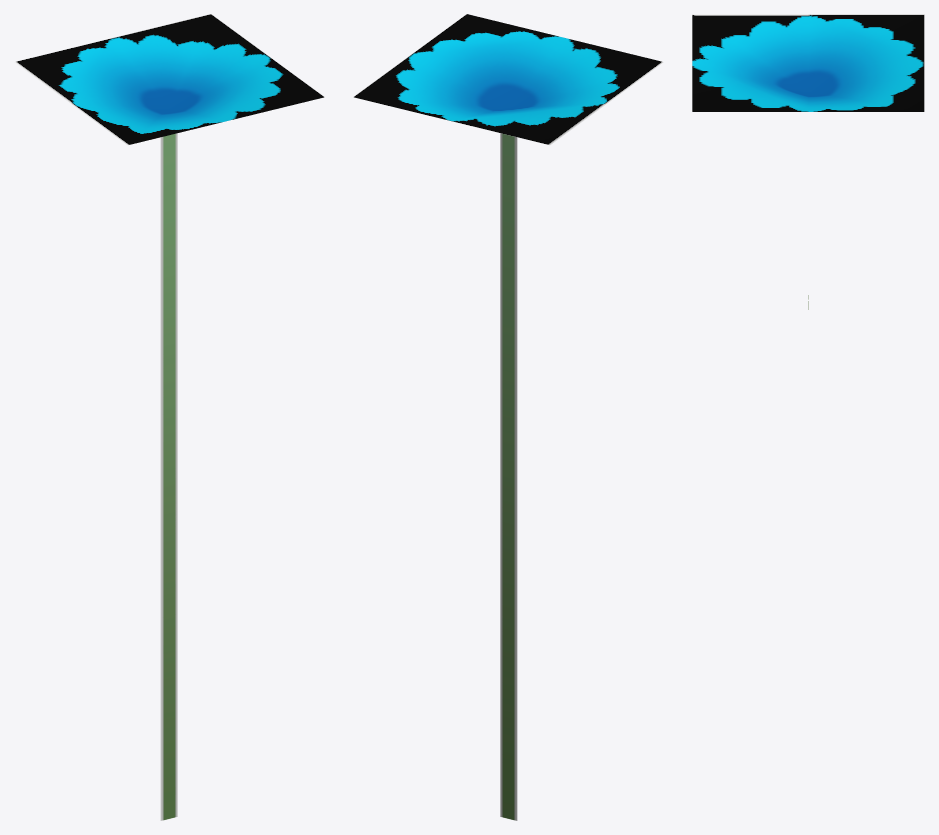
File: Flower_03.glb
3 renders of one model, left to right at view 1: azimuth 30°, elevation 25°; view 2: azimuth 150°, elevation 25°; view 3: azimuth 270°, elevation 25°, orthographic.
Visible parts, largest first — view 1: Flower_03_LOD0; view 2: Flower_03_LOD0; view 3: Flower_03_LOD0.
Boxes of the visible parts, <box> form: Flower_03_LOD0: <box>14,14,324,820</box>; Flower_03_LOD0: <box>353,14,663,820</box>; Flower_03_LOD0: <box>692,14,924,309</box>.
Size of what is drawn, in the model's own units: 0.1049 by 0.376 by 0.1049.
Materials: 1 (1 with a texture image).
